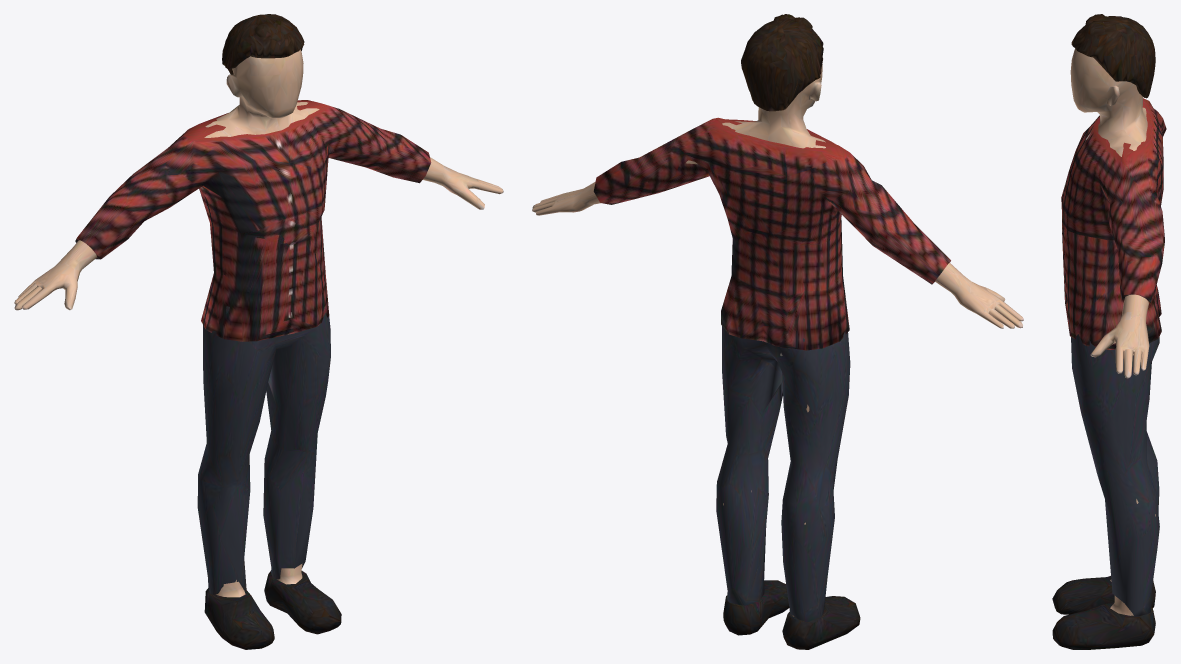
Rendered from npc_x_man3.glb.
The picture shows the model from 3 angles, left to right: view 1: azimuth 30°, elevation 25°; view 2: azimuth 150°, elevation 25°; view 3: azimuth 270°, elevation 25°; orthographic projection.
Parts seen in each view (by area): view 1: Human; view 2: Human; view 3: Human.
Part boxes in pixels (left/top/right/bottom): Human: left=14, top=14, right=503, bottom=649; Human: left=532, top=14, right=1023, bottom=649; Human: left=1052, top=14, right=1166, bottom=649.
Size of the model in its own units: 1.54 by 1.83 by 0.3108.
1 material, 1 textured.
